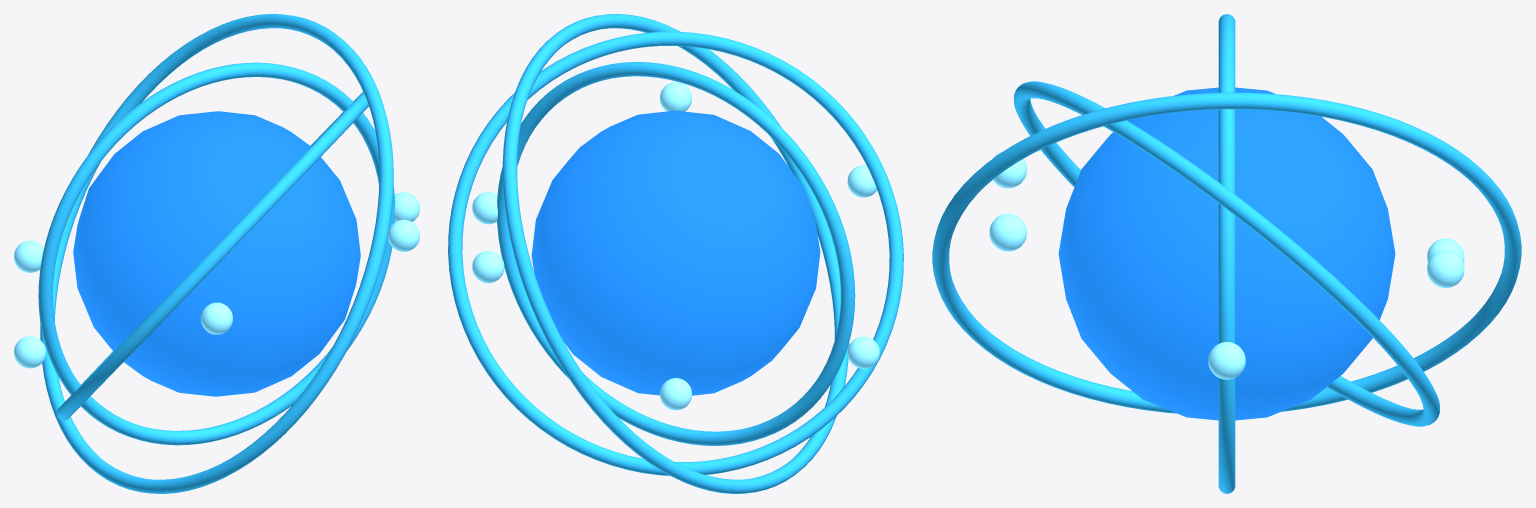
3 views of the same model, side by side, from view 1: azimuth 30°, elevation 25°; view 2: azimuth 150°, elevation 25°; view 3: azimuth 270°, elevation 25° (orthographic). The views are drawn at different scales.
Bounding box in the file's own units: 1.32 × 1.21 × 1.43.
